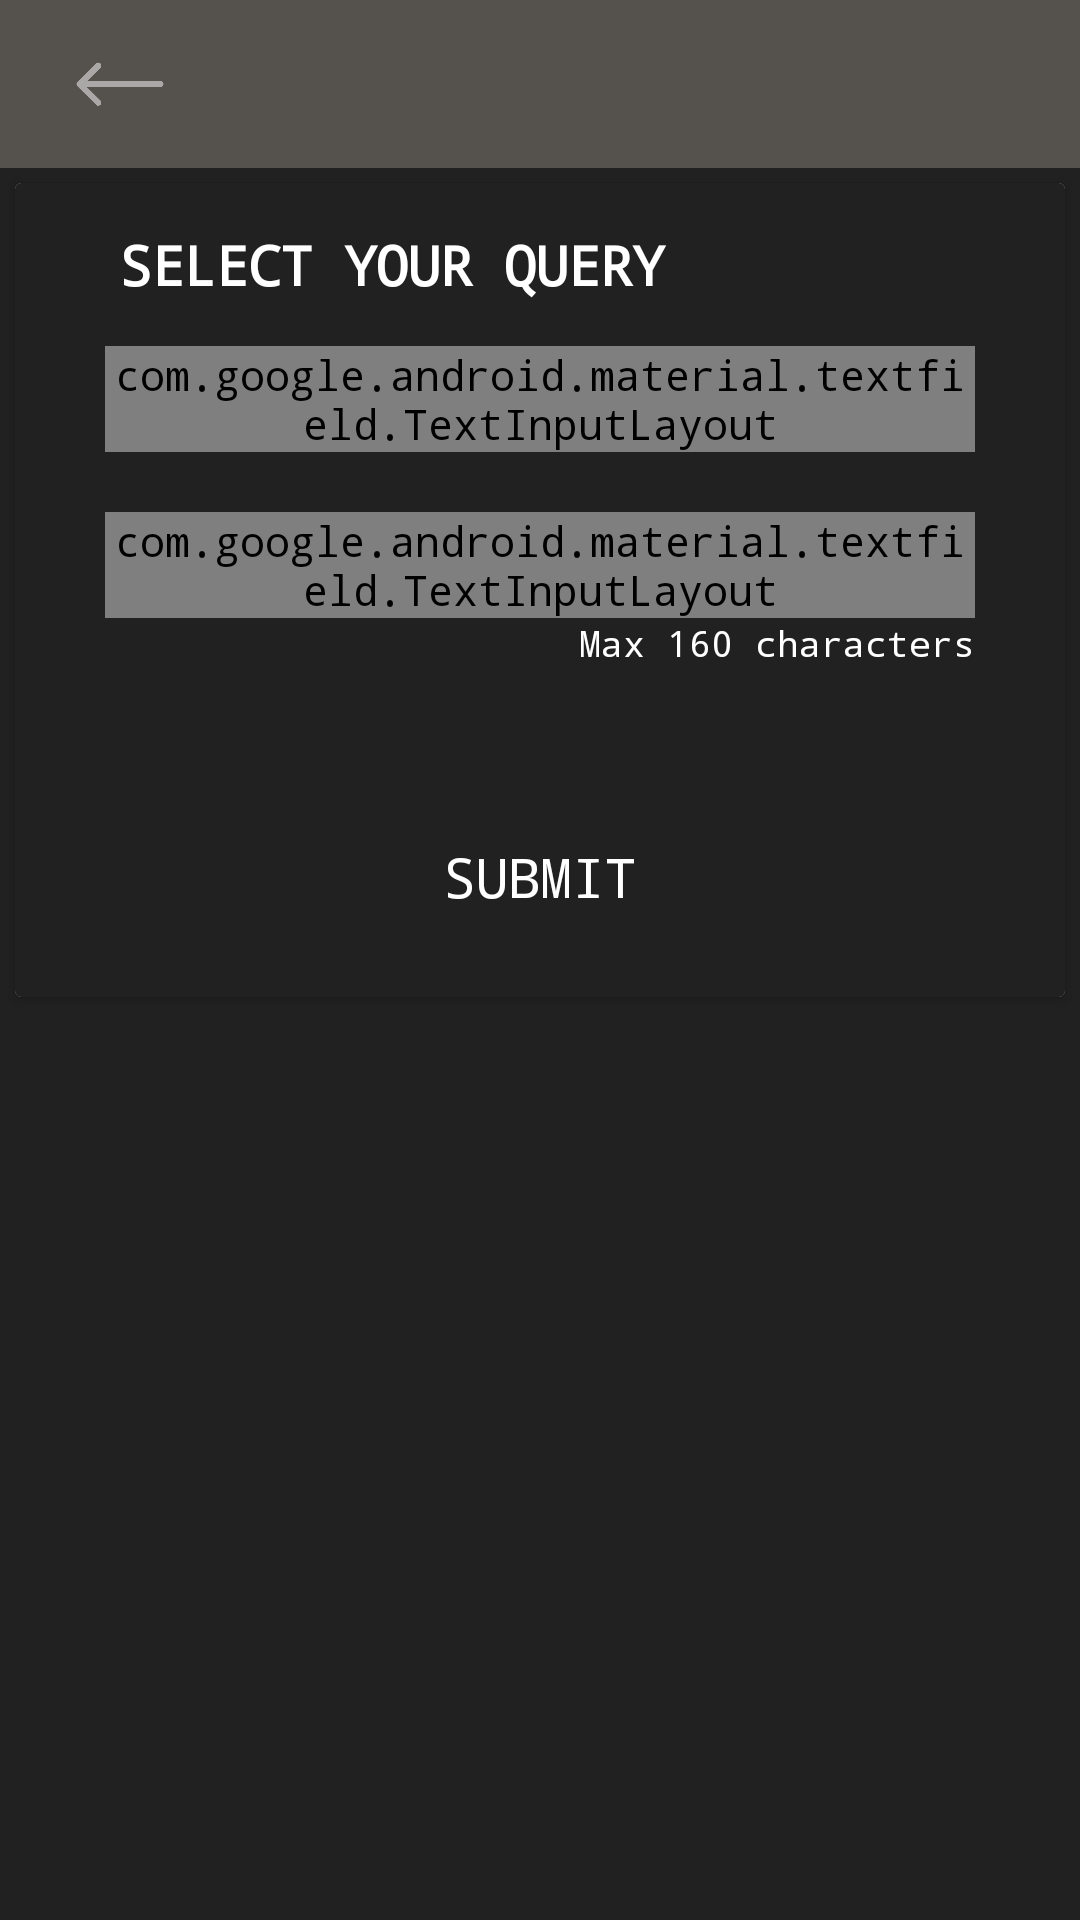

Named icons in this screenshot (1080 × 1920) and their centers, (x,y):
back: (120,84)
